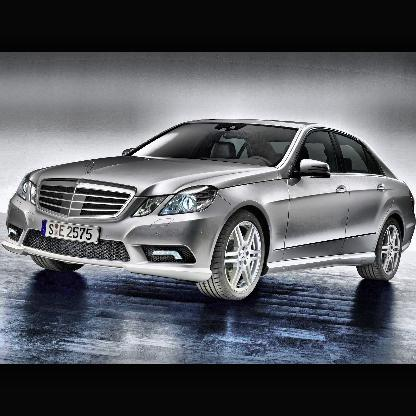Mercedes-Benz E-Class Sedan 2012: (1, 118, 415, 300)
